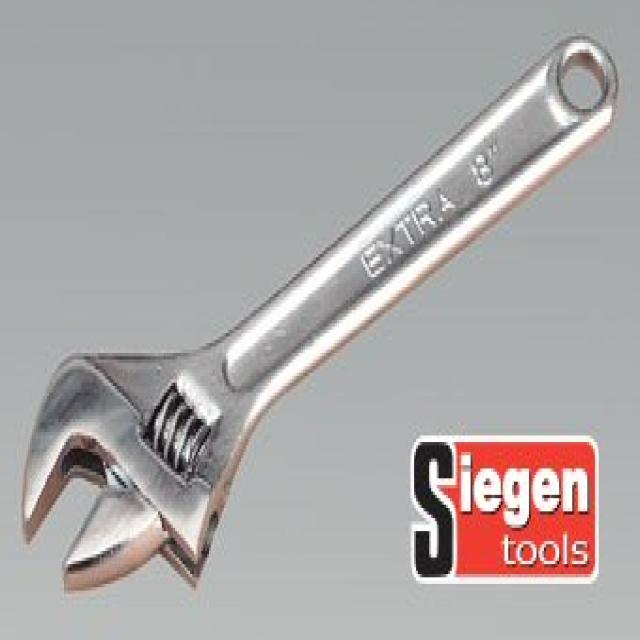wrench: (0, 4, 408, 608)
